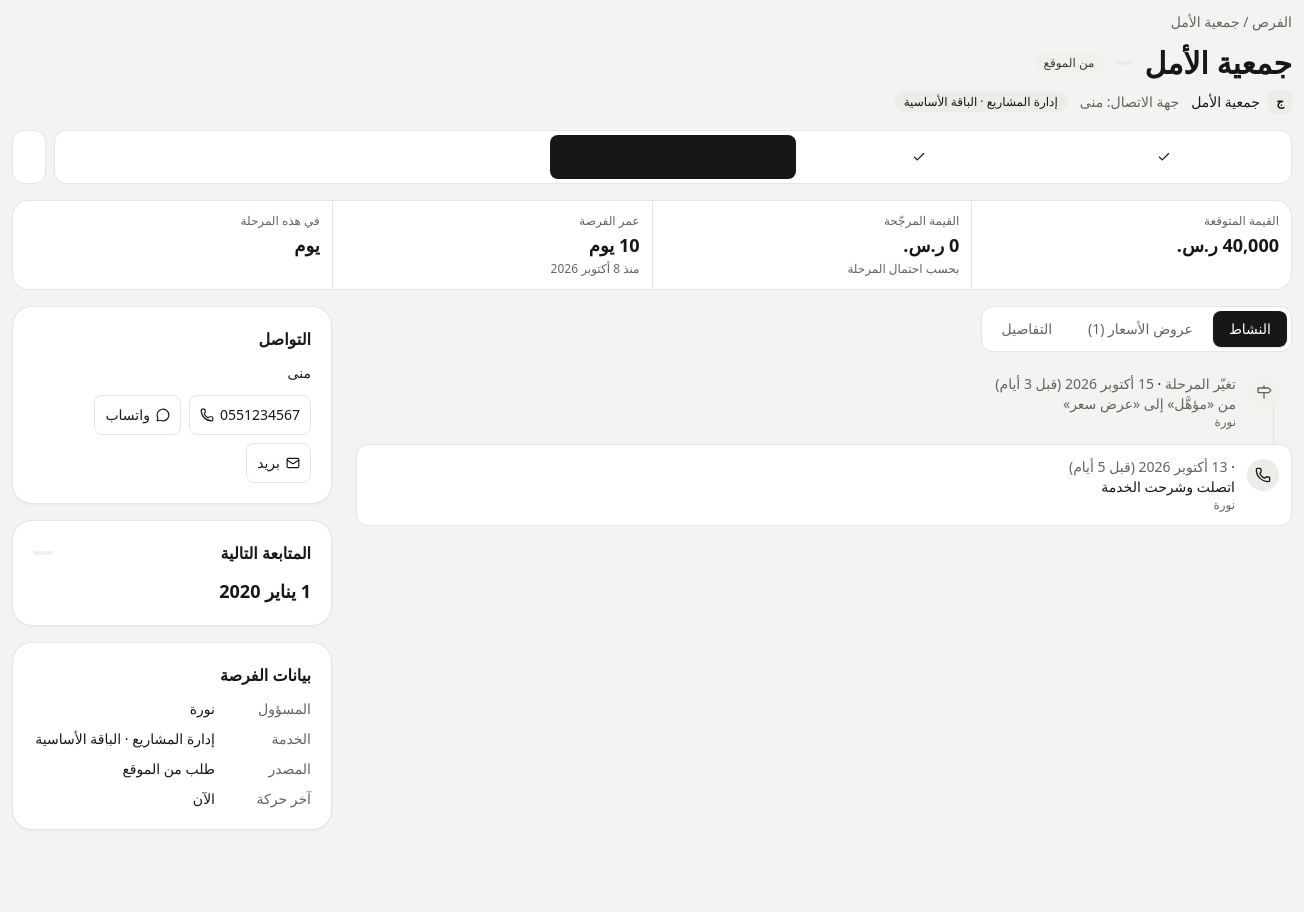
Test: opportunity page › lists its offers, and shows what was asked in the details
The image size is (1304, 912).
Click the tab "عروض الأسعار (1)".
click(1140, 328)  # box [1072,310,1209,346]
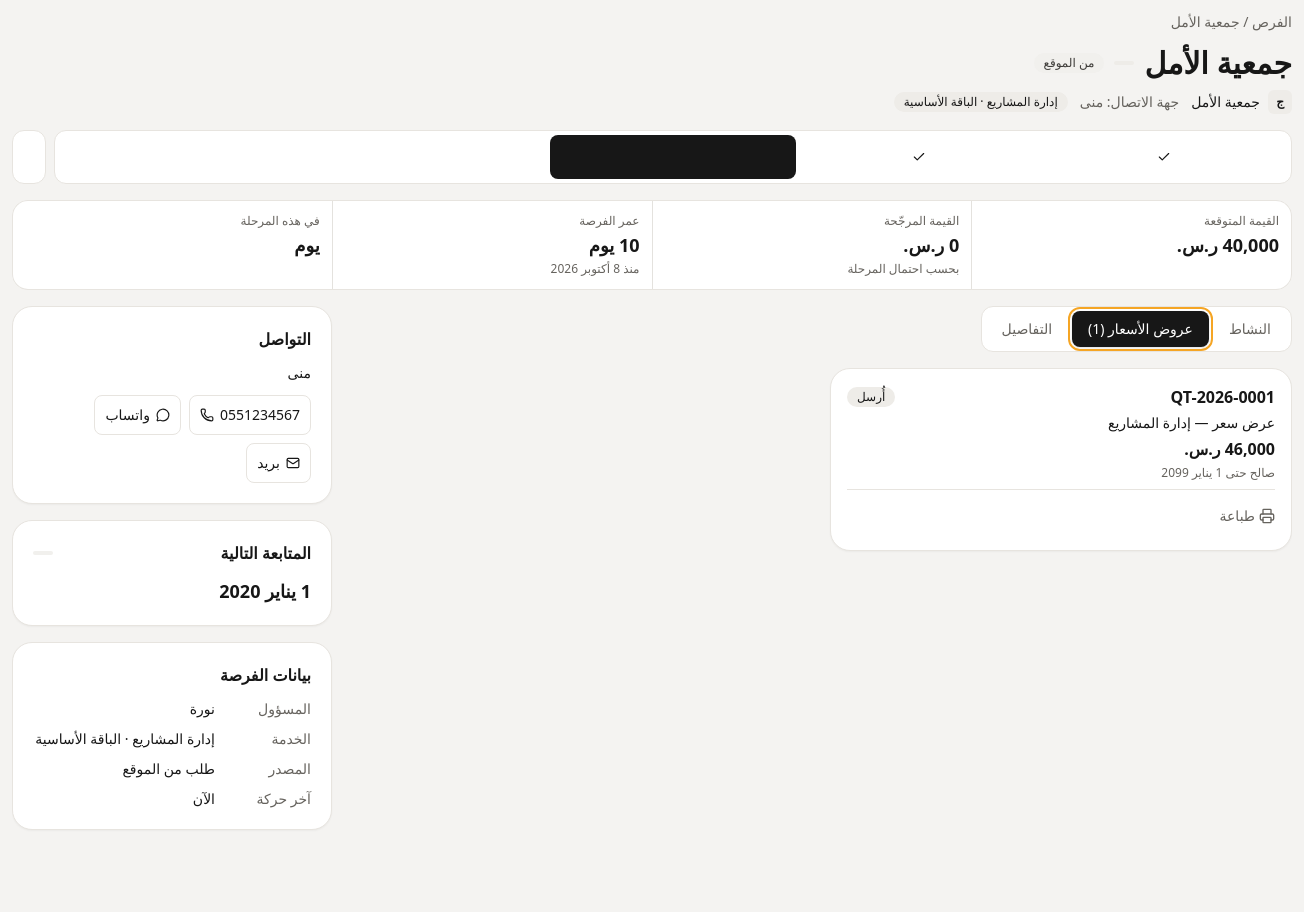
expect the text "QT-2026-0001" is shown: met, box [1171,384,1275,408]
expect the text "46,000 ر.س." is shown: met, box [1184,438,1275,460]
Click the tab "التفاصيل".
click(1027, 328)  # box [986,310,1068,346]
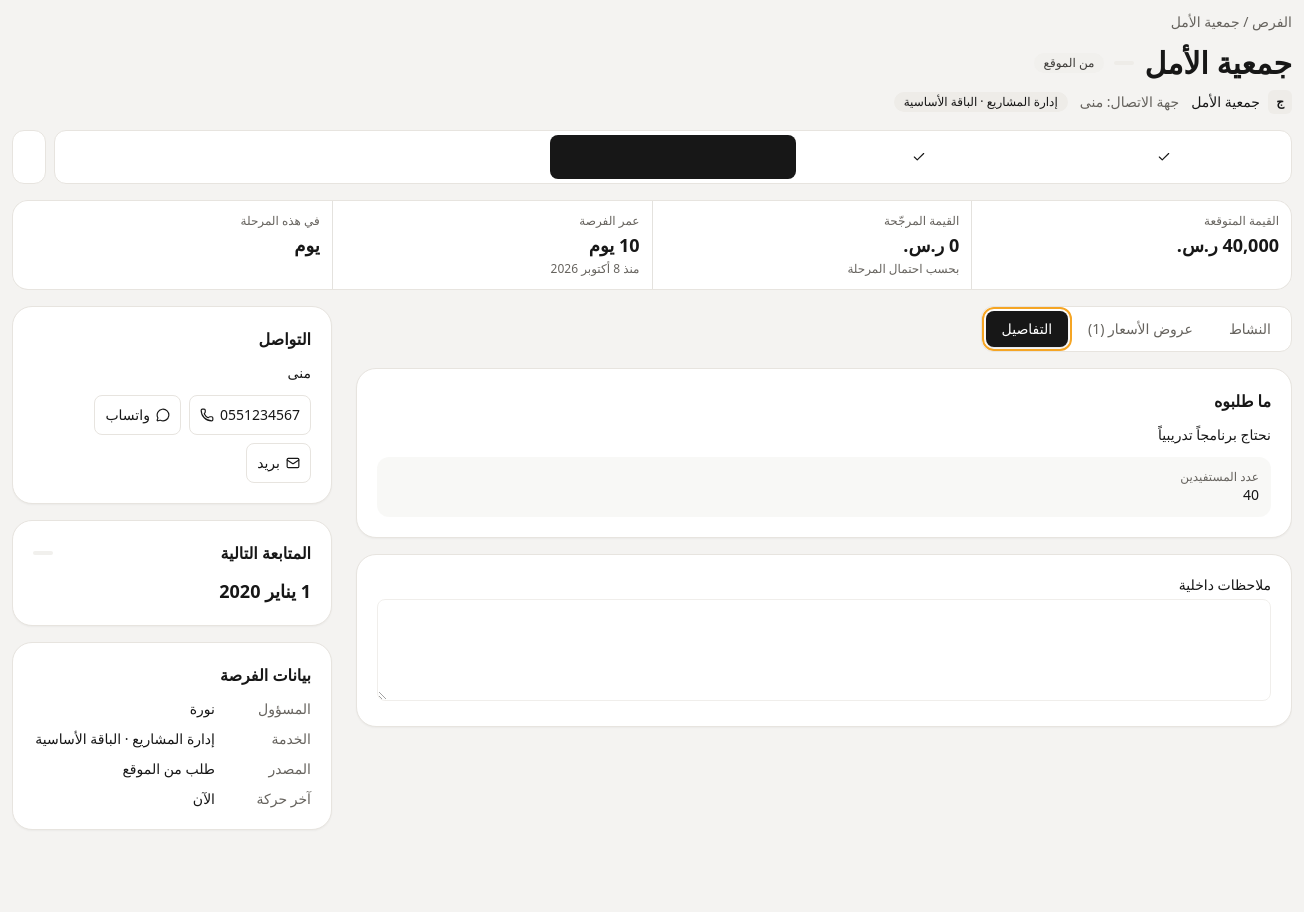
expect the text "نحتاج برنامجاً تدريبياً" is shown: met, box [1158,424,1271,444]
expect the text "40" is shown: met, box [1243,484,1259,504]
